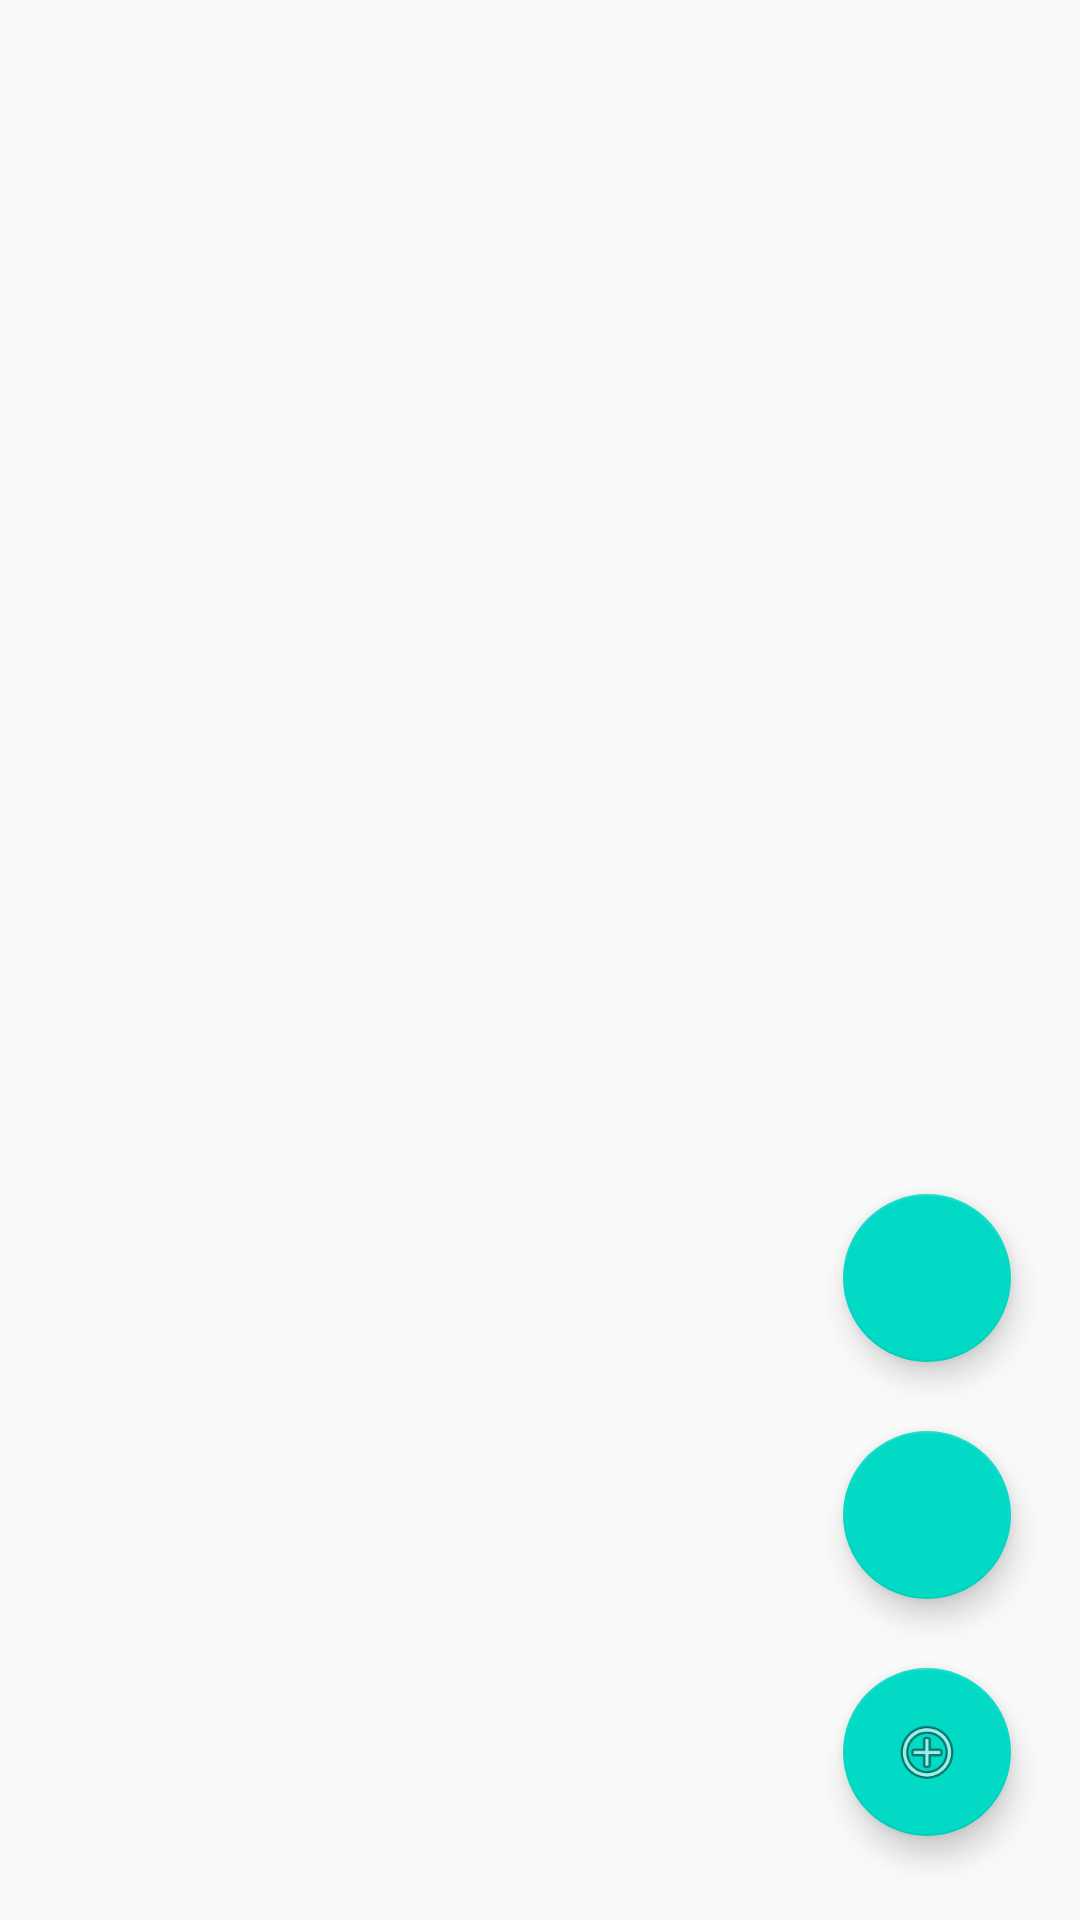

Screen size 1080 × 1920. Icon name, then its center in pixels as point (x, y):
add: point (927, 1752)
